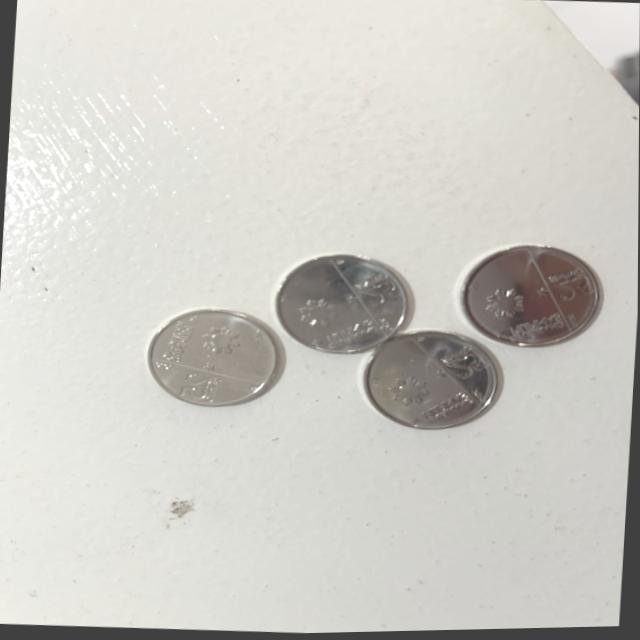25Cent_New_Front: (354, 265, 408, 313), (170, 370, 227, 410), (436, 342, 488, 378), (552, 266, 598, 304)
